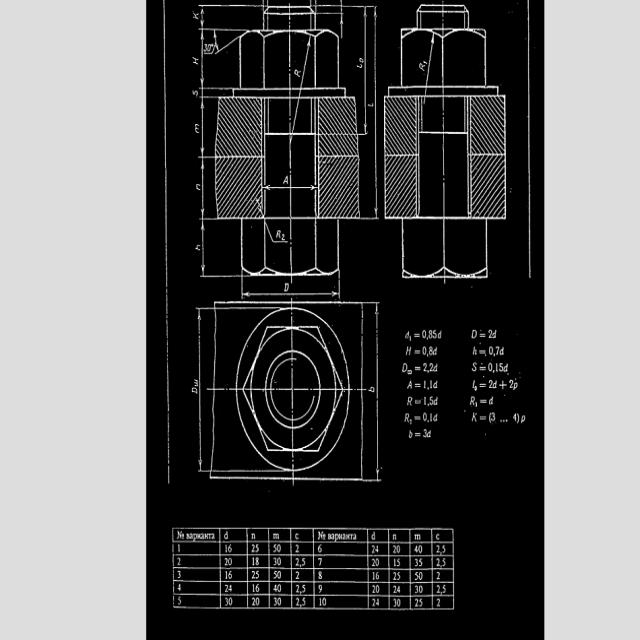marking_line: (375, 303, 380, 479), (363, 6, 367, 135), (243, 291, 339, 296), (264, 185, 317, 192)
numeric: (489, 412, 527, 425), (490, 379, 520, 390), (420, 329, 438, 341), (489, 362, 508, 373), (487, 346, 505, 357), (423, 411, 434, 424), (488, 328, 501, 339), (423, 379, 434, 391), (422, 395, 433, 407), (413, 584, 425, 595), (435, 559, 448, 569), (422, 346, 433, 357), (294, 597, 305, 608), (369, 544, 381, 554), (223, 557, 234, 567), (251, 555, 260, 567), (250, 569, 260, 579), (393, 585, 403, 595), (423, 363, 434, 372), (223, 584, 234, 593), (225, 570, 234, 581), (223, 544, 234, 553), (273, 582, 282, 593), (414, 544, 423, 555), (295, 558, 307, 566), (224, 598, 233, 608), (252, 583, 262, 592), (273, 570, 283, 579), (272, 557, 281, 567), (296, 584, 306, 593), (371, 584, 380, 594), (370, 571, 380, 580), (371, 558, 381, 567), (392, 559, 402, 568), (392, 545, 402, 554), (414, 598, 424, 607), (415, 572, 424, 582), (414, 558, 424, 567), (437, 585, 447, 594), (251, 544, 260, 553), (272, 597, 281, 606), (393, 572, 402, 581), (273, 545, 283, 553), (320, 597, 328, 607), (393, 598, 401, 608), (436, 599, 444, 609), (436, 546, 447, 553), (252, 598, 260, 606), (372, 598, 380, 606), (316, 557, 323, 566), (422, 428, 427, 439), (295, 571, 301, 580), (295, 544, 301, 553), (317, 584, 323, 593), (436, 572, 442, 581), (318, 545, 323, 553), (318, 571, 322, 580)
